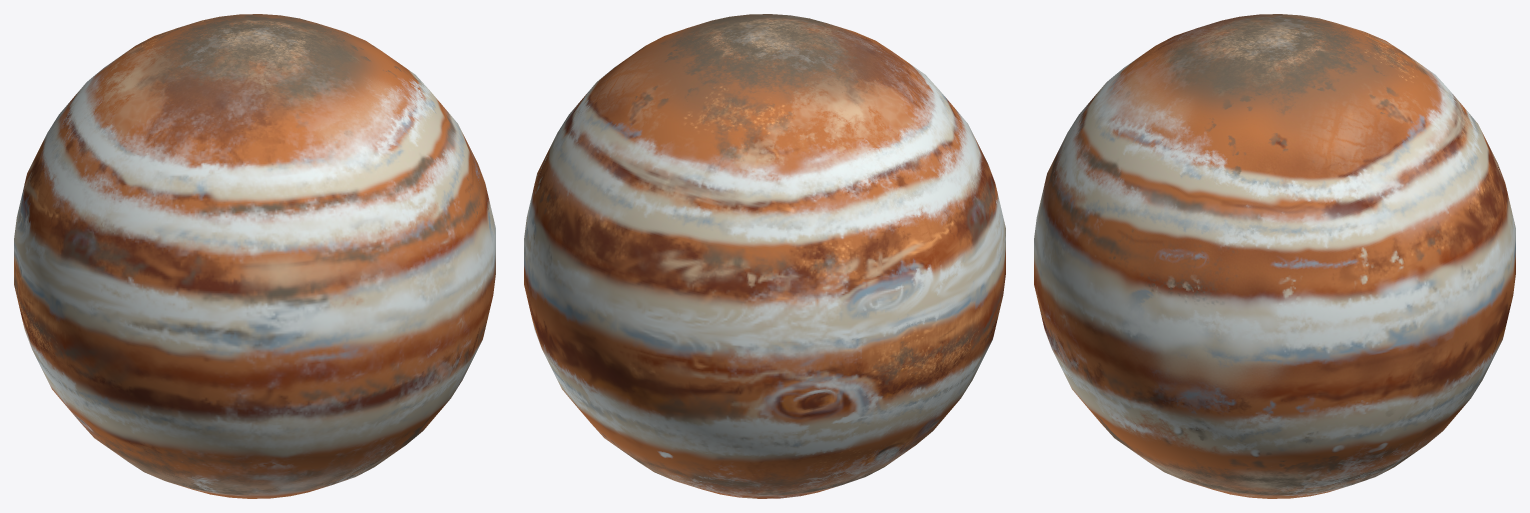
File: jupiter.glb
The picture shows the model from 3 angles, left to right: view 1: azimuth 30°, elevation 25°; view 2: azimuth 150°, elevation 25°; view 3: azimuth 270°, elevation 25°; orthographic projection.
Parts seen in each view (by area): view 1: New; view 2: New; view 3: New.
Part boxes in pixels (<box>): New: <box>14,14,495,498</box>; New: <box>524,14,1005,498</box>; New: <box>1034,14,1515,498</box>.
Size of the model in its own units: 1.21 by 1.22 by 1.21.
Materials: 1 (1 with a texture image).
